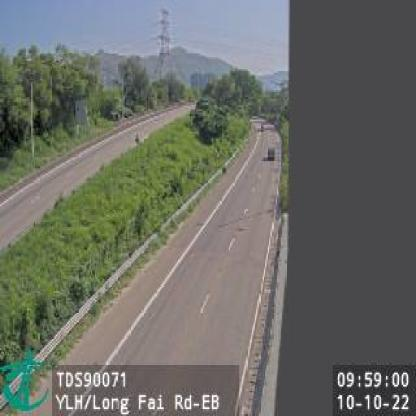Car: (264, 145, 276, 161)
